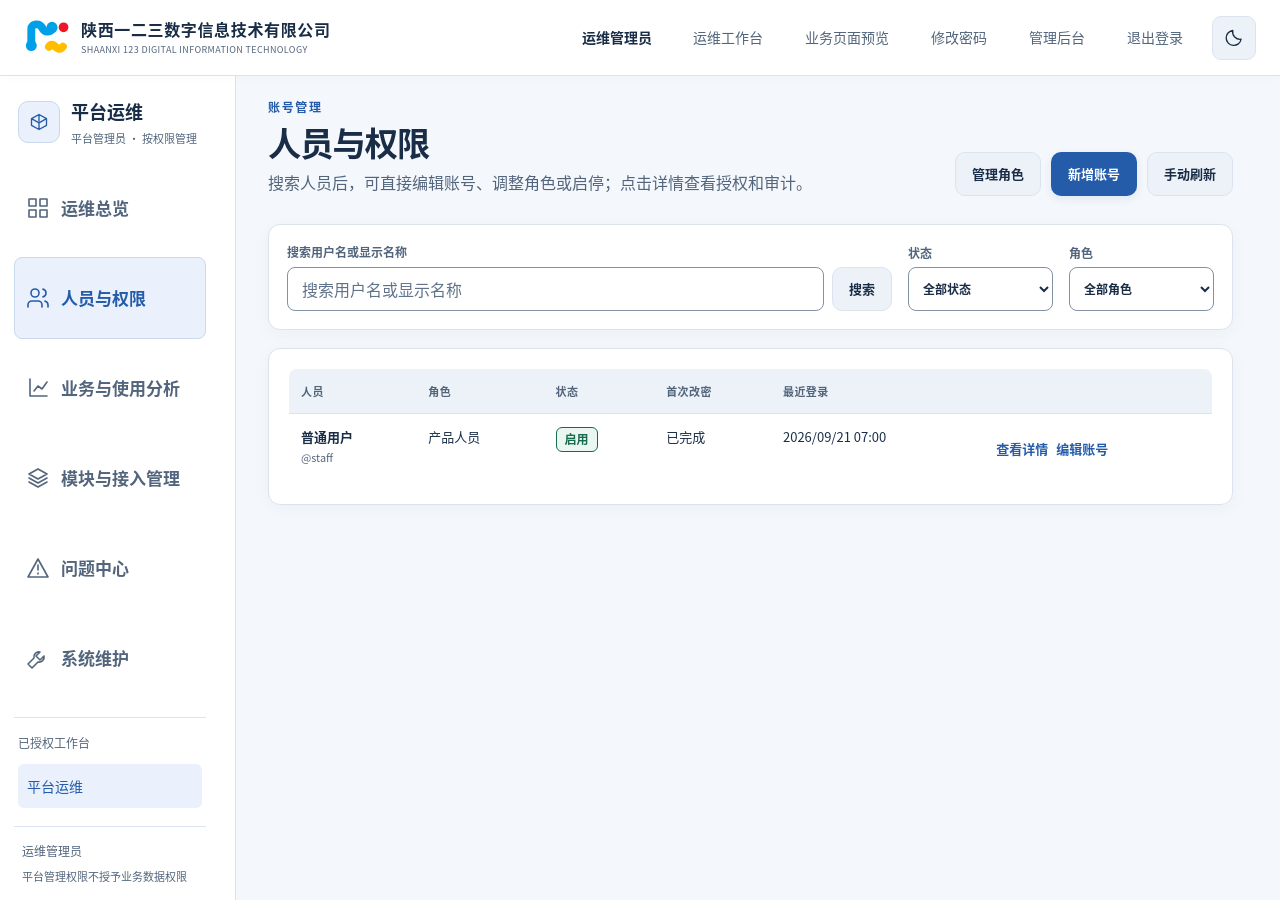
ops workspace › 人员侧栏支持 Escape 关闭并将焦点归还触发按钮
Click the button "查看详情". click: (1022, 449)
box: [996,427,1048,471]
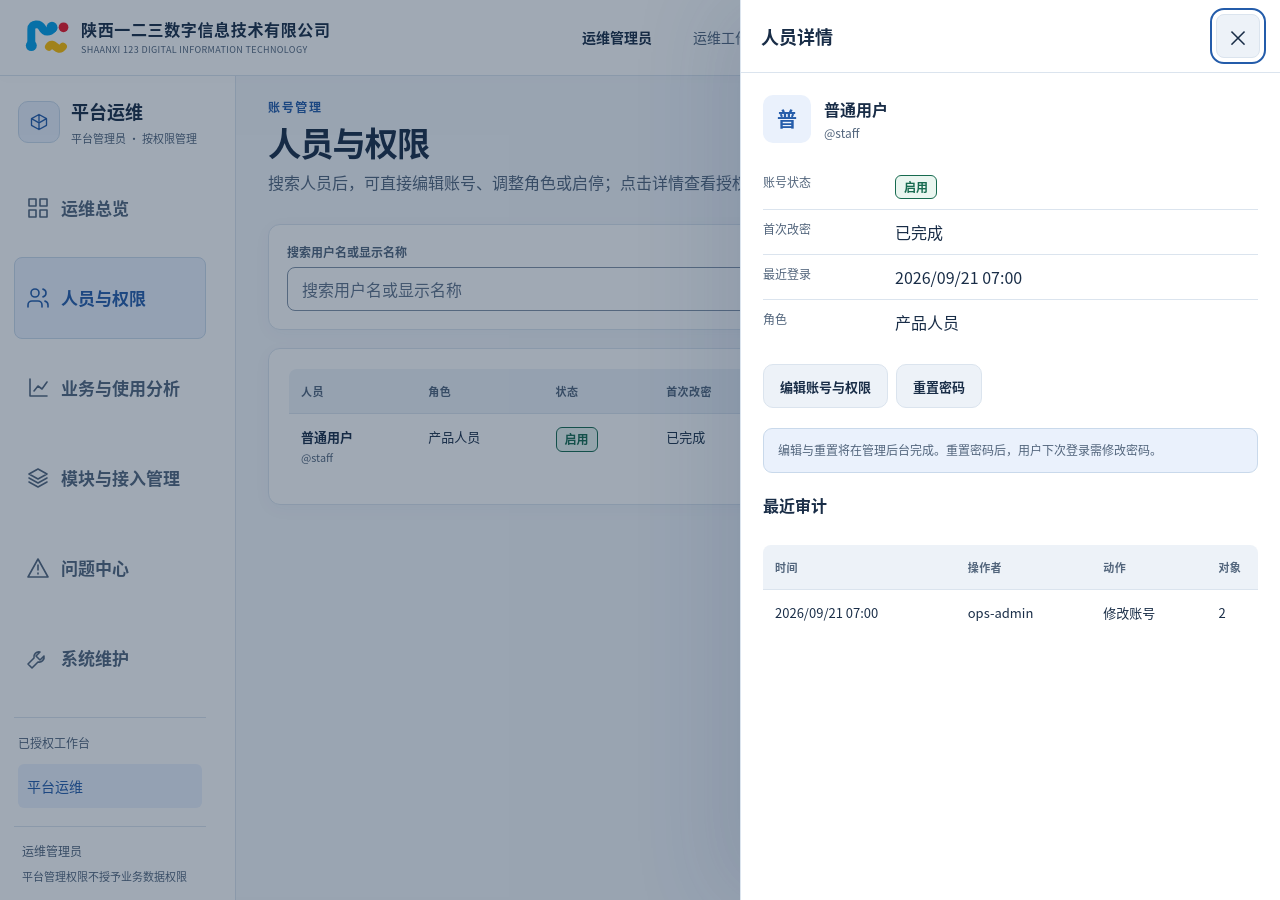
Press Tab in the button named "关闭详情", box [1216,14,1260,58]
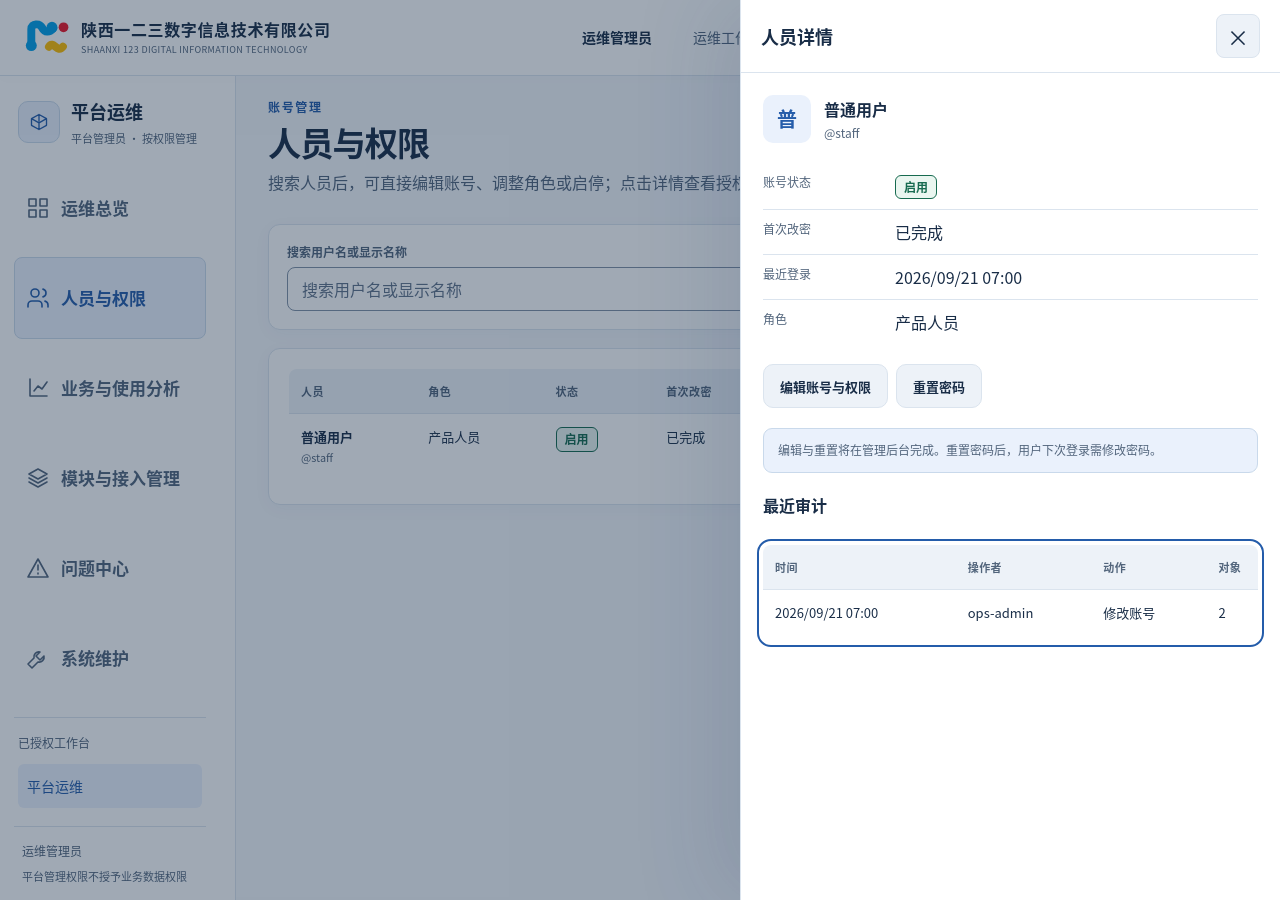
Press Tab in the element named "审计表格，可横向滚动", box [763,545,1258,641]
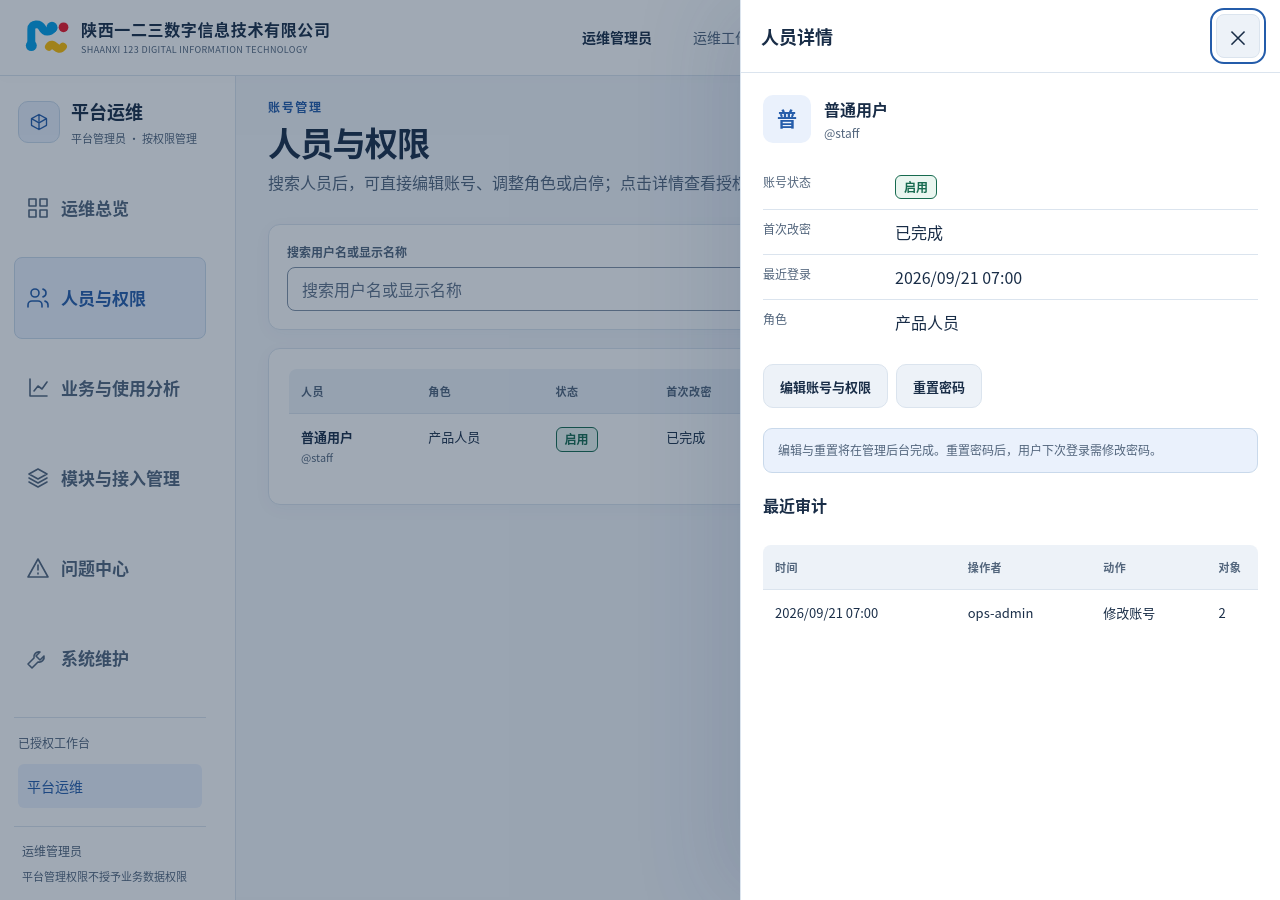
Press Escape
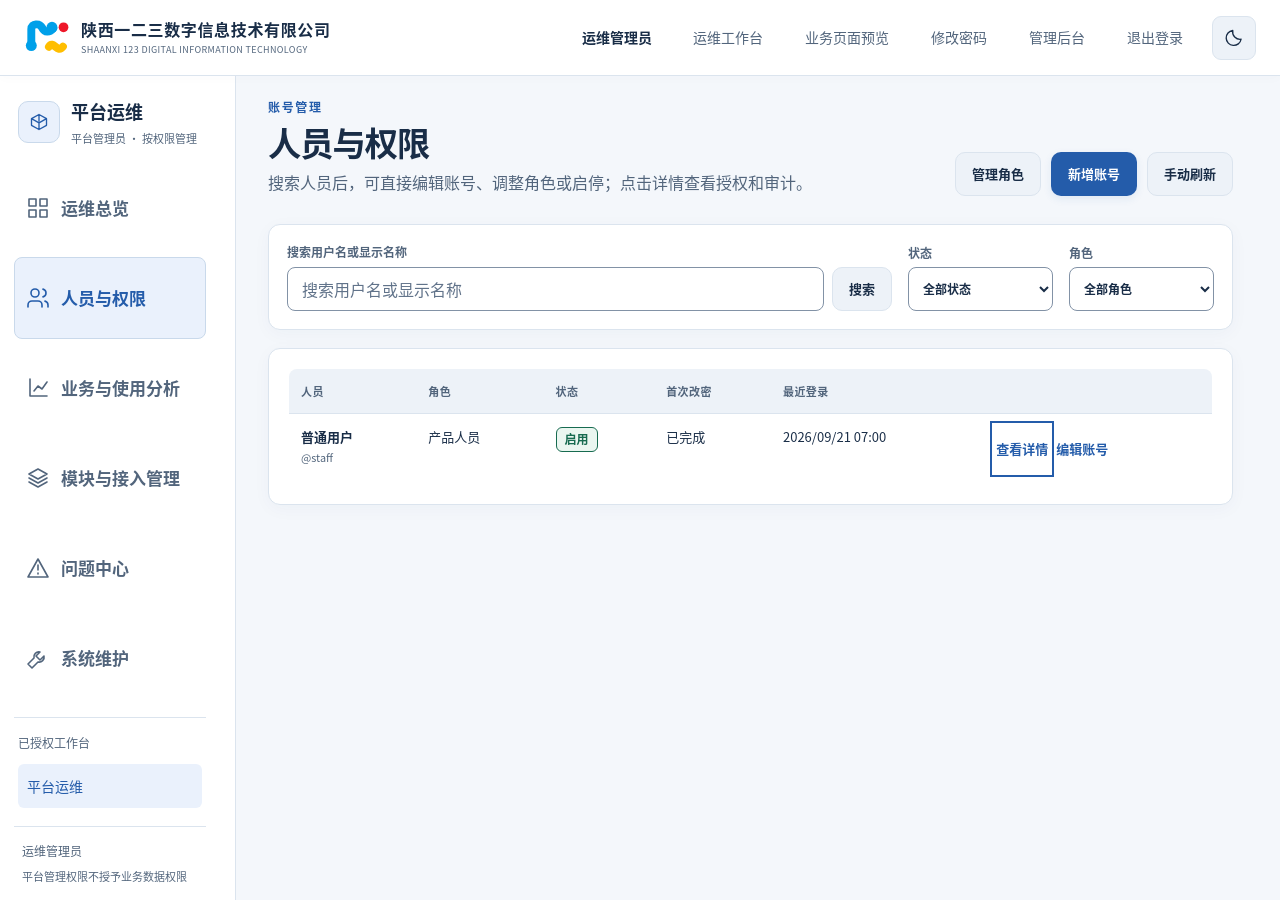
Expected: the heading "人员详情" is gone
